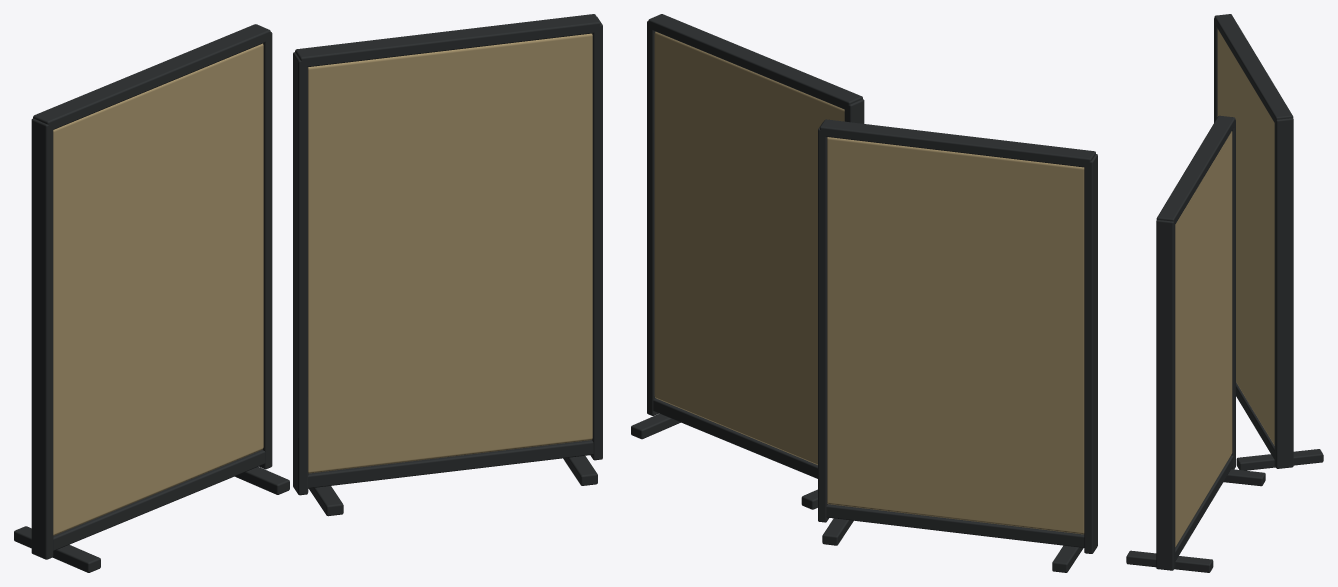
The model's file is partition.glb.
3 renders of one model, left to right at view 1: azimuth 30°, elevation 25°; view 2: azimuth 150°, elevation 25°; view 3: azimuth 270°, elevation 25°, orthographic. The views are drawn at different scales.
Parts seen in each view (by area): view 1: burlap, steel-dark; view 2: burlap, steel-dark; view 3: burlap, steel-dark.
Part boxes in pixels (left/top/right/bottom): burlap: left=53, top=33, right=592, bottom=535; steel-dark: left=14, top=14, right=602, bottom=572; burlap: left=654, top=31, right=1084, bottom=534; steel-dark: left=631, top=14, right=1097, bottom=572; burlap: left=1175, top=29, right=1274, bottom=546; steel-dark: left=1126, top=14, right=1323, bottom=572.
Bounding box in the file's own units: 2.04 × 1.63 × 0.8184.
